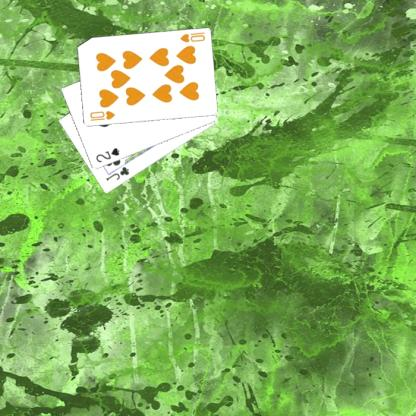10H: (87, 108, 116, 123), (177, 30, 206, 44)
2S: (93, 145, 121, 164)
JC: (103, 164, 131, 182)
